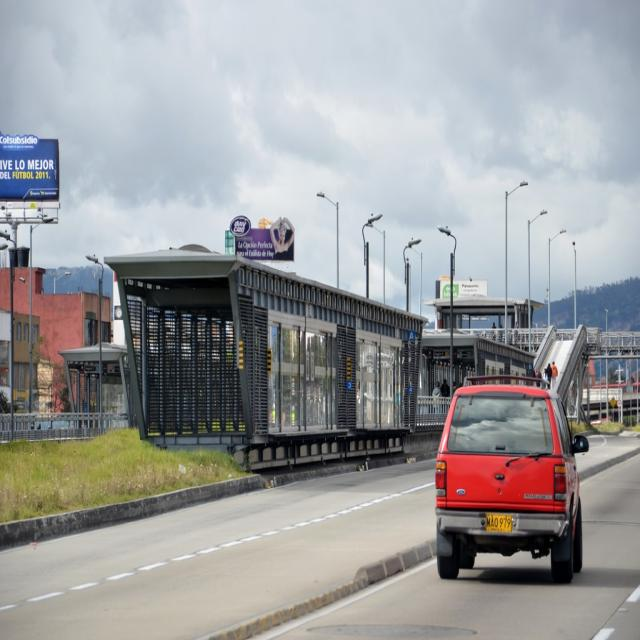car: (434, 371, 588, 583)
